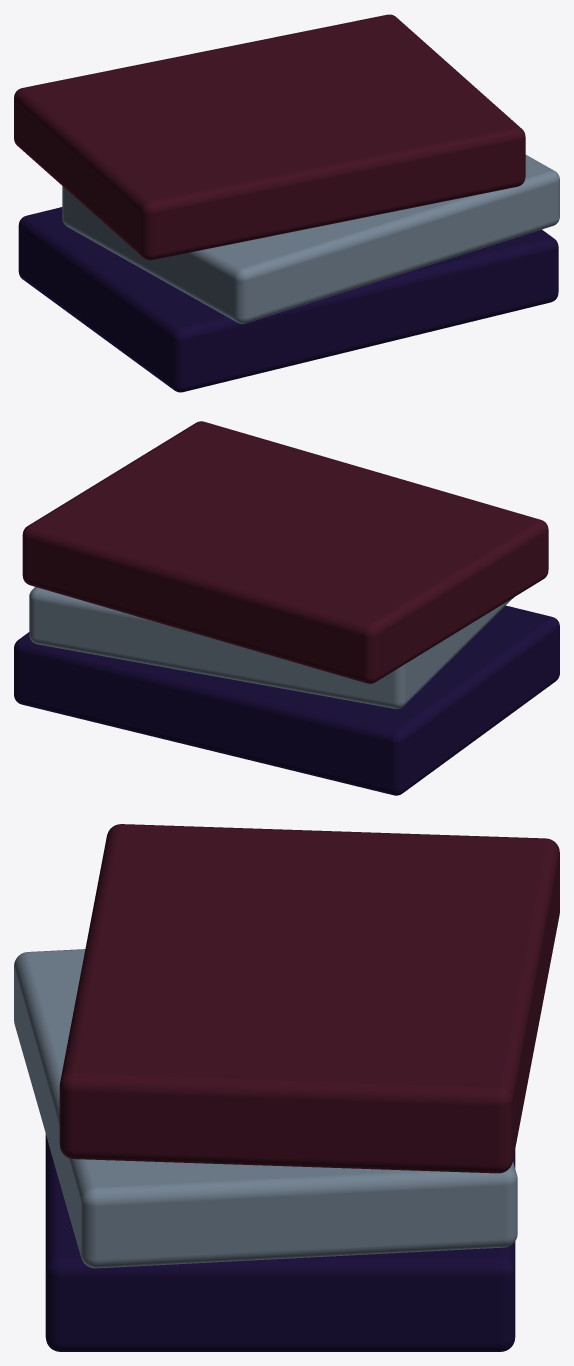
The model's file is state-default.glb.
3 renders of one model, top to bottom at view 1: azimuth 30°, elevation 25°; view 2: azimuth 150°, elevation 25°; view 3: azimuth 270°, elevation 25°, orthographic. The views are drawn at different scales.
Visible parts, largest first — view 1: assetPrim:d76362662545e-19c73234c4d:book-top, assetPrim:d76362662545e-19c73234c4d:book-bottom, assetPrim:d76362662545e-19c73234c4d:book-middle; view 2: assetPrim:d76362662545e-19c73234c4d:book-top, assetPrim:d76362662545e-19c73234c4d:book-bottom, assetPrim:d76362662545e-19c73234c4d:book-middle; view 3: assetPrim:d76362662545e-19c73234c4d:book-top, assetPrim:d76362662545e-19c73234c4d:book-middle, assetPrim:d76362662545e-19c73234c4d:book-bottom.
Boxes of the visible parts, x1,y1,x2,y2 form: assetPrim:d76362662545e-19c73234c4d:book-top: (14, 14, 525, 260); assetPrim:d76362662545e-19c73234c4d:book-bottom: (18, 207, 558, 392); assetPrim:d76362662545e-19c73234c4d:book-middle: (62, 155, 559, 323); assetPrim:d76362662545e-19c73234c4d:book-top: (22, 421, 548, 683); assetPrim:d76362662545e-19c73234c4d:book-bottom: (14, 605, 559, 795); assetPrim:d76362662545e-19c73234c4d:book-middle: (29, 587, 513, 708); assetPrim:d76362662545e-19c73234c4d:book-top: (59, 824, 559, 1173); assetPrim:d76362662545e-19c73234c4d:book-middle: (14, 949, 517, 1268); assetPrim:d76362662545e-19c73234c4d:book-bottom: (45, 1134, 515, 1351).
Size of the model in its own units: 0.2331 by 0.097 by 0.1861.
